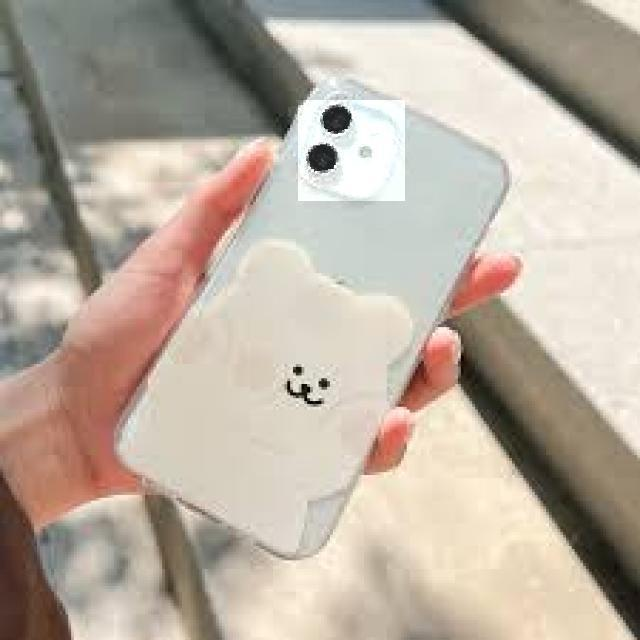Mobile: (115, 73, 512, 561)
